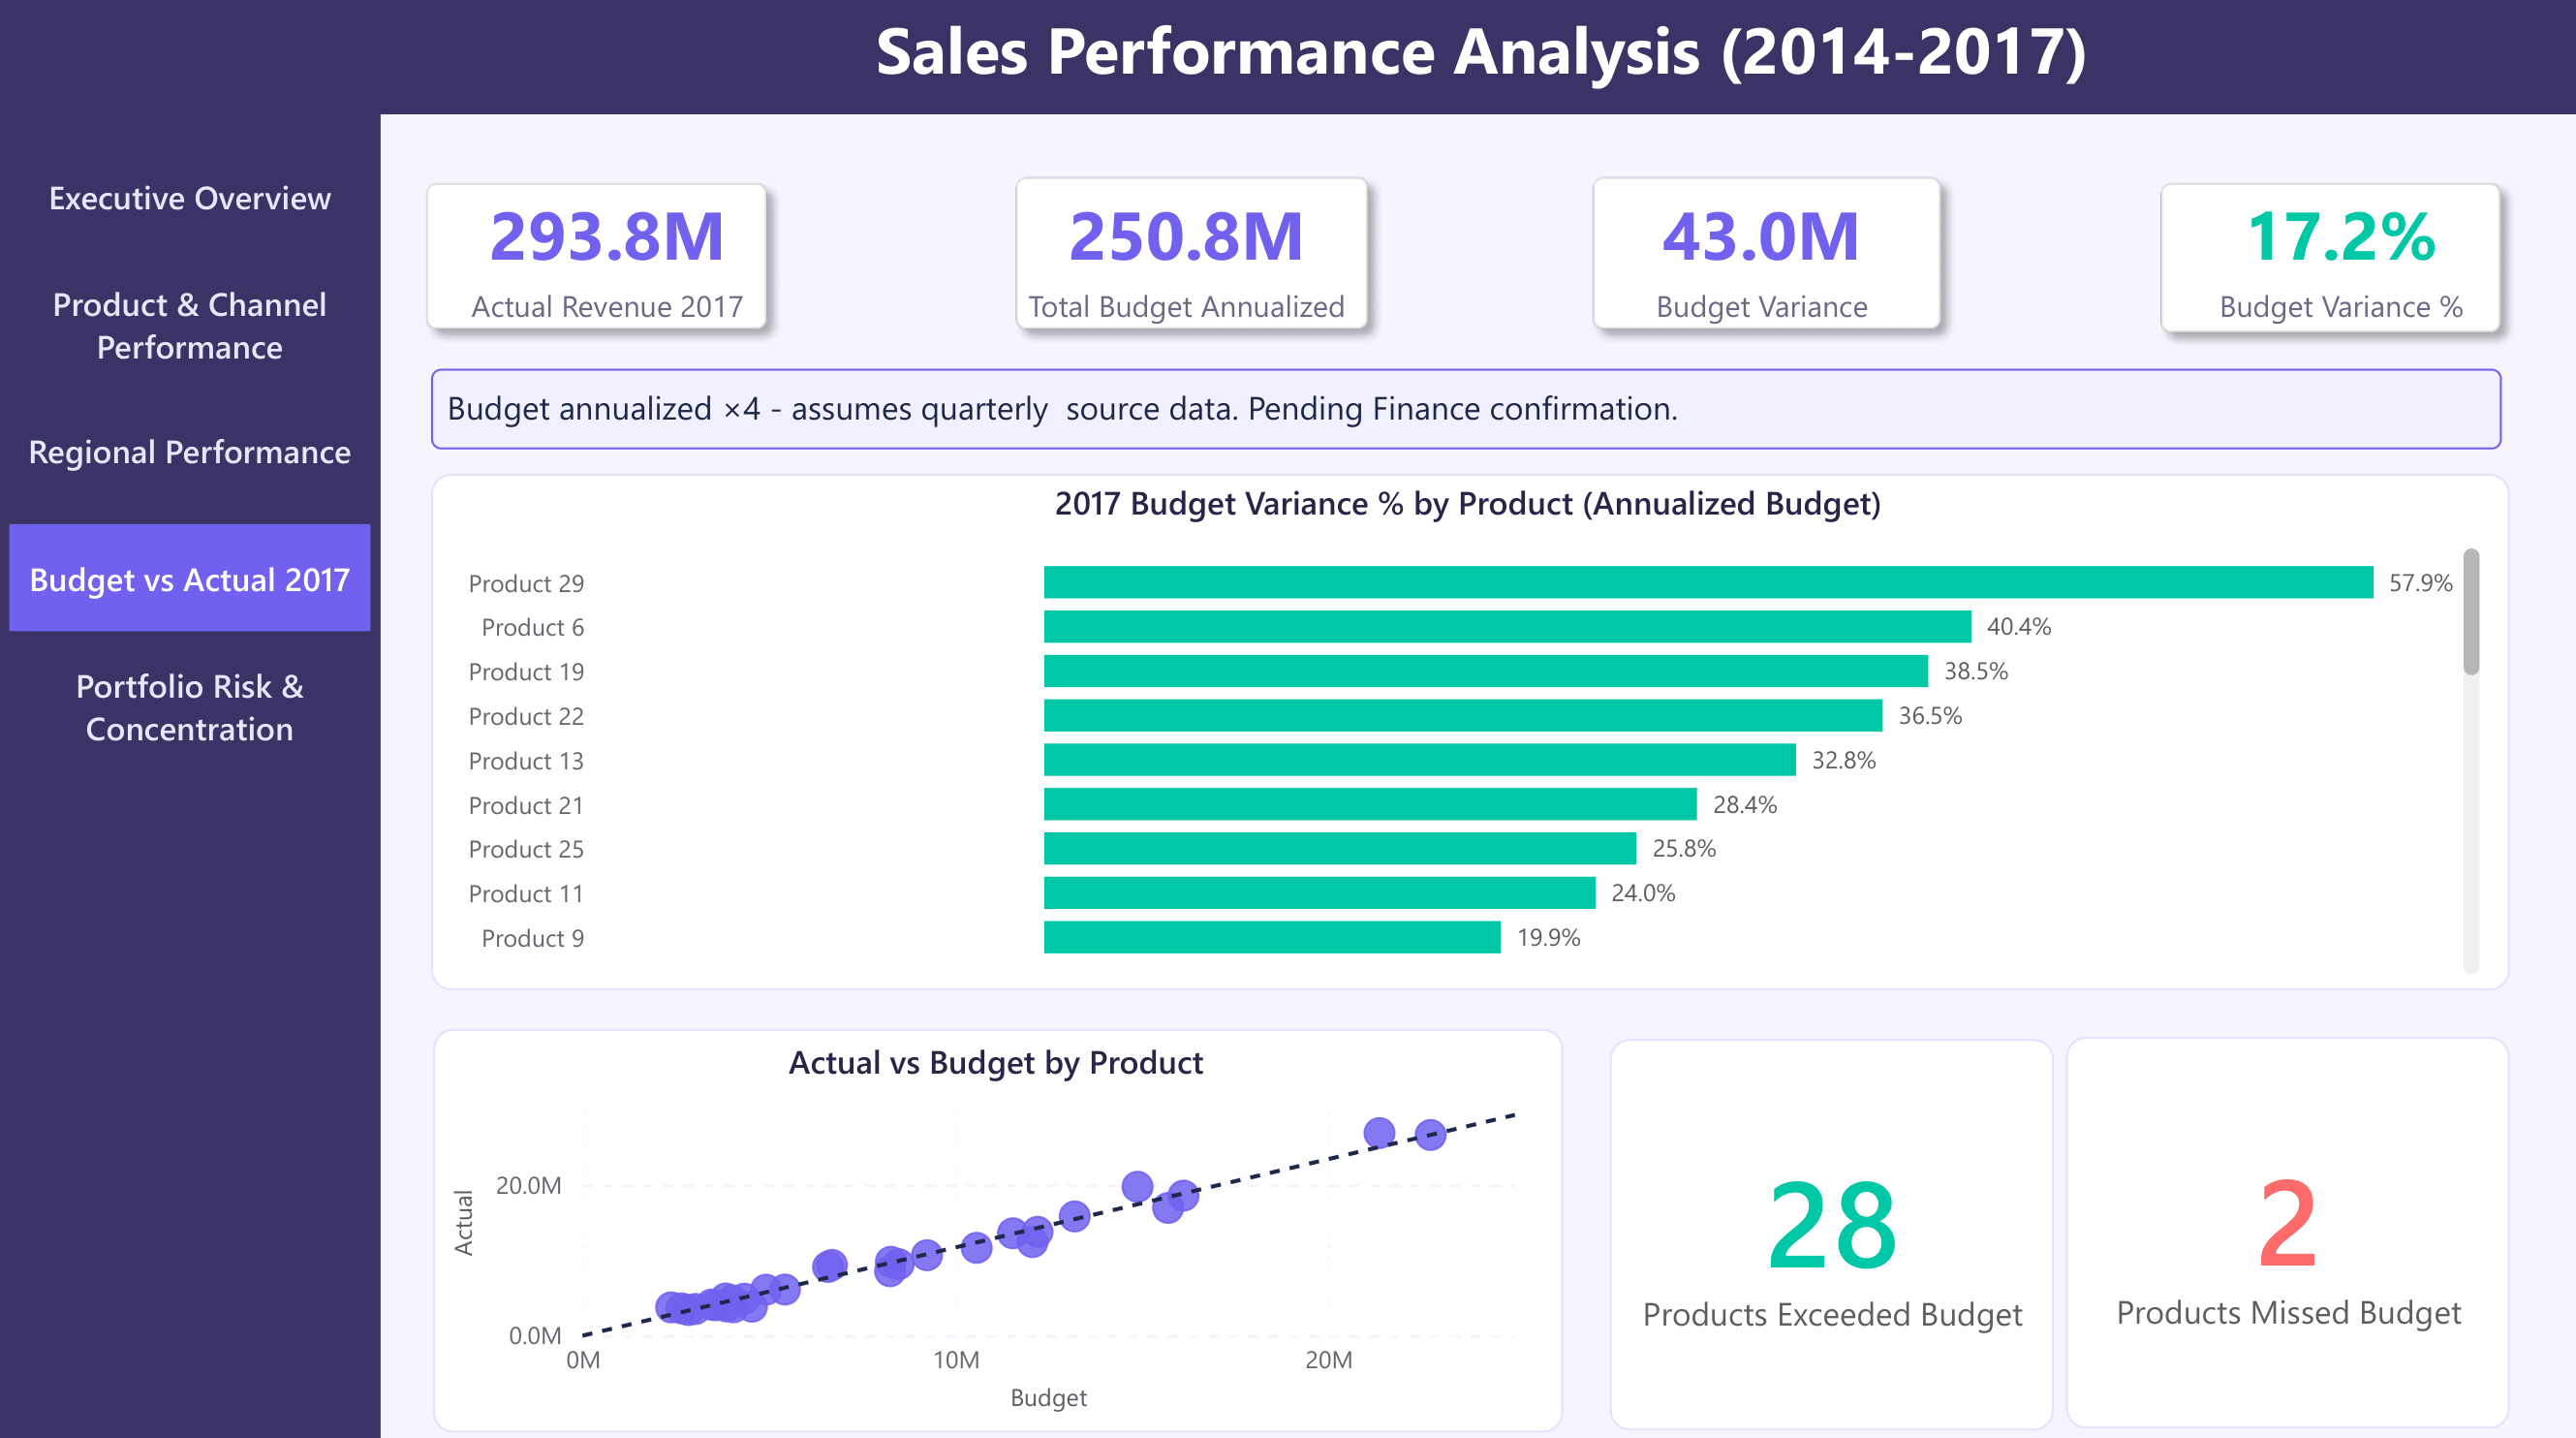

The dashboard page shown, as its layout file describes it:
{"tool":"powerbi","page":{"name":"Budget vs Actual 2017 ","canvas":[1280,720],"ordinal":3},"visuals":[{"type":"shape","box":[800,518.4,220,194.1],"z":0},{"type":"shape","box":[0,0,1280,60],"z":1000},{"type":"shape","box":[496.6,81.7,191.7,93.4],"z":1002,"group":"g2"},{"type":"shape","box":[782.9,81.7,190.1,93.4],"z":1002,"group":"g3"},{"type":"shape","box":[204.7,85,186,90.6],"z":1002,"group":"g1"},{"type":"shape","box":[1064.3,85.1,186,92.2],"z":1002,"group":"g4"},{"type":"card","fields":{"Values":["_measures.Actual Revenue 2017"]},"box":[205.4,82.3,195,95],"z":1502,"group":"g1"},{"type":"card","fields":{"Values":["_measures.Total Budget Annualized"]},"box":[491.7,82.3,196.7,93.4],"z":1502,"group":"g2"},{"type":"card","fields":{"Values":["_measures.Budget Variance"]},"box":[778,82.3,195,93.4],"z":1502,"group":"g3"},{"type":"card","fields":{"Values":["_measures.Budget Variance %"]},"box":[1065,82.3,195,95],"z":1502,"group":"g4"},{"type":"textbox","box":[424.3,0,625.7,58.6],"z":2000},{"type":"group","id":"g1","title":"Group 1","box":[204.7,82.3,195.7,95],"z":3000},{"type":"group","id":"g2","title":"Group 1","box":[491.7,81.7,195,95],"z":4000},{"type":"shape","box":[0,59.4,191,659.4],"z":5000},{"type":"pageNavigator","box":[7.1,74.1,178.8,304.7],"z":6000},{"type":"shape","box":[215.7,238.3,1030,255.7],"z":7000},{"type":"clusteredBarChart","title":"2017 Budget Variance % by Product          (Annualized Budget)","fields":{"Category":["dim_products.product"],"Y":["_measures.Budget Variance %"]},"box":[224.4,240.7,1011.1,250],"z":8000},{"type":"group","id":"g3","title":"Group 1","box":[778,81.7,195,95],"z":9000},{"type":"group","id":"g4","title":"Group 1","box":[1064.3,82.3,195.7,95],"z":10000},{"type":"shape","box":[216.7,512.7,560,200],"z":11000},{"type":"scatterChart","title":"Actual vs Budget by Product","fields":{"X":["_measures.Total Budget Annualized"],"Category":["dim_products.product"],"Y":["_measures.Actual Revenue 2017"]},"box":[222.2,518.2,547.8,190],"z":12000},{"type":"card","fields":{"Values":["_measures.Products Above Budget"]},"box":[805.9,525.4,209.4,181],"z":13000},{"type":"shape","box":[1025.9,517.2,220,194.1],"z":14000},{"type":"card","fields":{"Values":["_measures.Products Below Budget"]},"box":[1031.8,524.2,209.4,181],"z":15000},{"type":"textbox","box":[216,186,1026,40],"z":16000}]}

Visuals, with their boxes in screenshot pixels (x1, y1, x2, y2), scaled from the page's 1280x720 canvas onto the 2576x1438 screenshot:
shape: <bbox>1610, 1035, 2053, 1423</bbox>
shape: <bbox>0, 0, 2575, 120</bbox>
shape: <bbox>1000, 163, 1385, 350</bbox>
shape: <bbox>1575, 163, 1958, 350</bbox>
shape: <bbox>412, 170, 787, 351</bbox>
shape: <bbox>2142, 170, 2516, 354</bbox>
card - _measures.Actual Revenue 2017: <bbox>414, 165, 806, 354</bbox>
card - _measures.Total Budget Annualized: <bbox>989, 165, 1385, 351</bbox>
card - _measures.Budget Variance: <bbox>1566, 165, 1958, 351</bbox>
card - _measures.Budget Variance %: <bbox>2143, 165, 2535, 354</bbox>
textbox: <bbox>853, 0, 2113, 117</bbox>
"Group 1" group: <bbox>412, 165, 806, 354</bbox>
"Group 1" group: <bbox>989, 163, 1382, 353</bbox>
shape: <bbox>0, 118, 385, 1436</bbox>
pageNavigator: <bbox>15, 148, 374, 757</bbox>
shape: <bbox>434, 476, 2507, 986</bbox>
"2017 Budget Variance % by Product          (Annualized Budget)" clusteredBarChart: <bbox>451, 481, 2487, 980</bbox>
"Group 1" group: <bbox>1566, 163, 1958, 353</bbox>
"Group 1" group: <bbox>2142, 165, 2535, 354</bbox>
shape: <bbox>436, 1024, 1563, 1423</bbox>
"Actual vs Budget by Product" scatterChart: <bbox>448, 1035, 1550, 1415</bbox>
card - _measures.Products Above Budget: <bbox>1622, 1049, 2043, 1411</bbox>
shape: <bbox>2064, 1033, 2507, 1421</bbox>
card - _measures.Products Below Budget: <bbox>2076, 1047, 2498, 1408</bbox>
textbox: <bbox>435, 371, 2499, 452</bbox>
